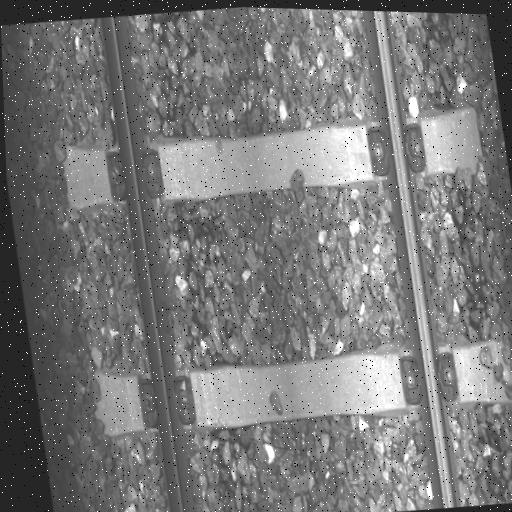clips: (368, 118, 427, 178), (398, 349, 459, 405), (138, 373, 197, 429), (105, 146, 162, 199)
sleepers: (53, 97, 492, 225), (85, 322, 512, 453)
